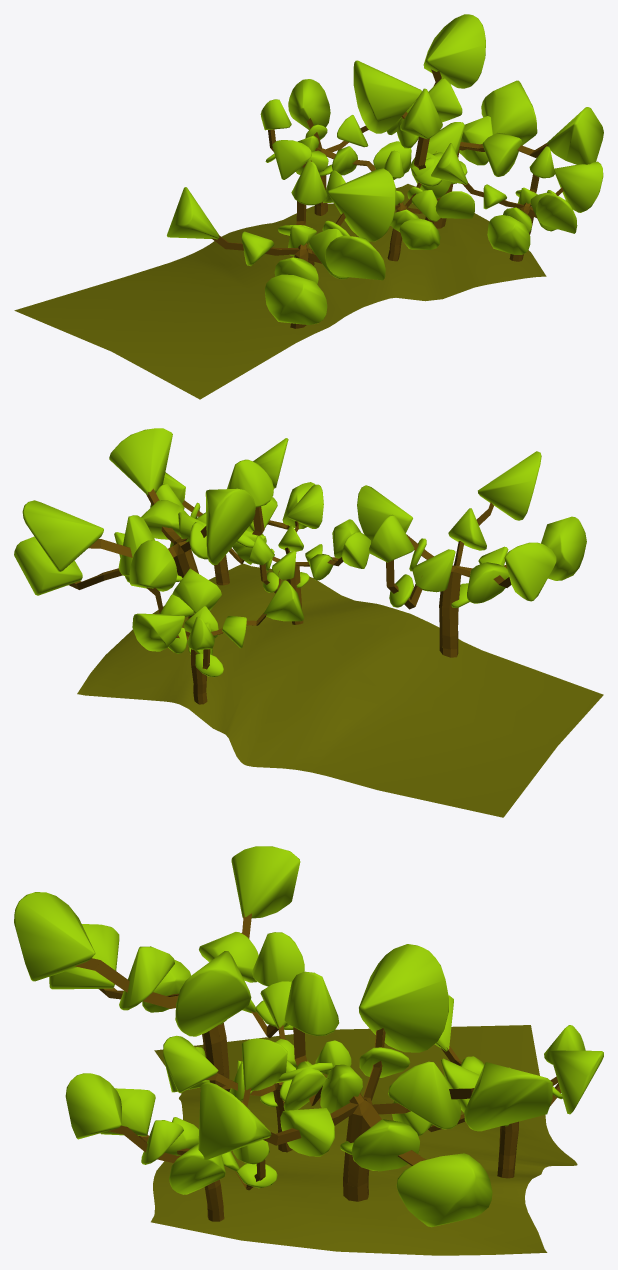
The model's file is landscape1.glb.
3 views of the same model, one above another, from view 1: azimuth 30°, elevation 25°; view 2: azimuth 150°, elevation 25°; view 3: azimuth 270°, elevation 25° (orthographic). The views are drawn at different scales.
Visible parts, largest first — view 1: level2; view 2: level2; view 3: level2.
Boxes of the visible parts, x1,y1,x2,y2 form: level2: (14, 14, 603, 399); level2: (14, 428, 603, 817); level2: (14, 846, 603, 1255).
Size of what is drawn, in the model's own units: 11.38 by 4.59 by 8.87.
